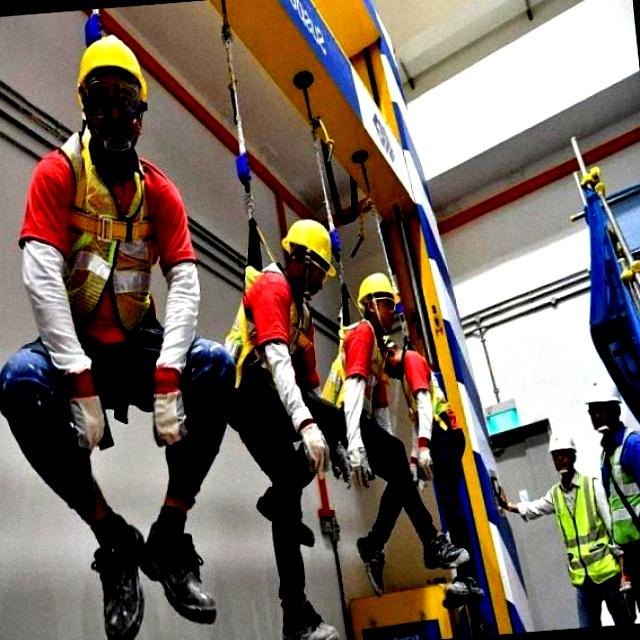helmet: (70, 32, 151, 98), (272, 212, 342, 278), (352, 270, 398, 303)
safety_vest: (52, 129, 170, 373), (221, 268, 318, 407), (548, 472, 616, 590), (318, 312, 382, 414), (397, 349, 463, 434), (595, 434, 639, 544)
